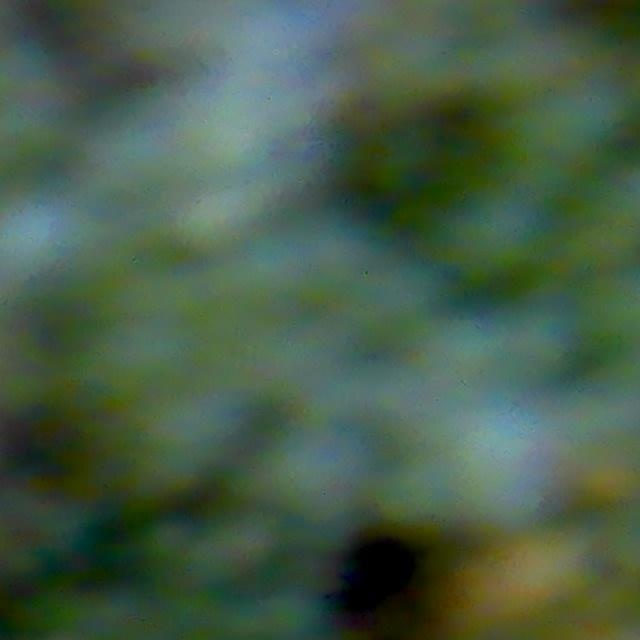SeaGrape: (261, 423, 370, 526), (449, 191, 546, 282)
